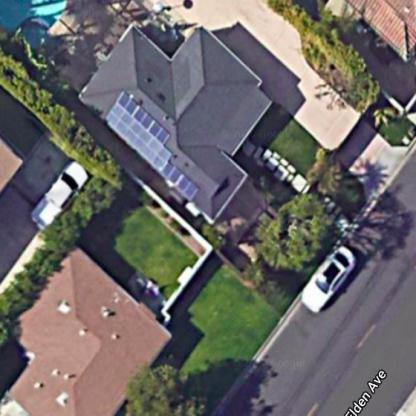car: (26, 152, 88, 240), (300, 240, 354, 316)
solar_panel: (96, 84, 212, 210)
swimming_pool: (1, 1, 81, 51)
